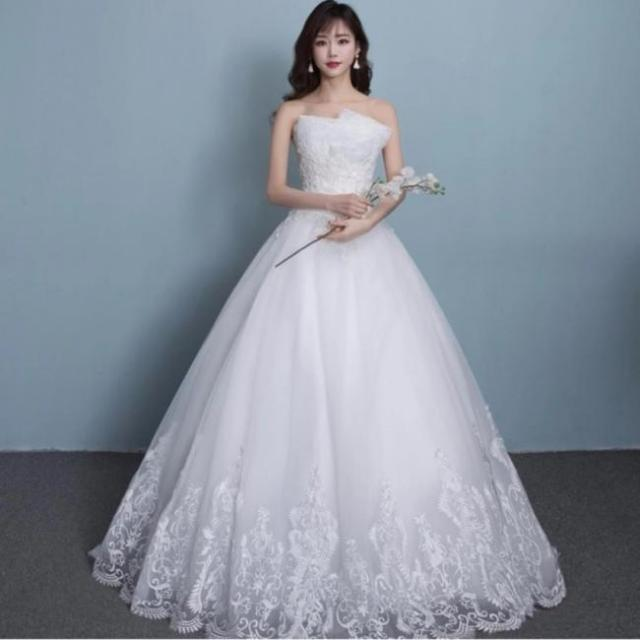clothes: (140, 97, 553, 640)
